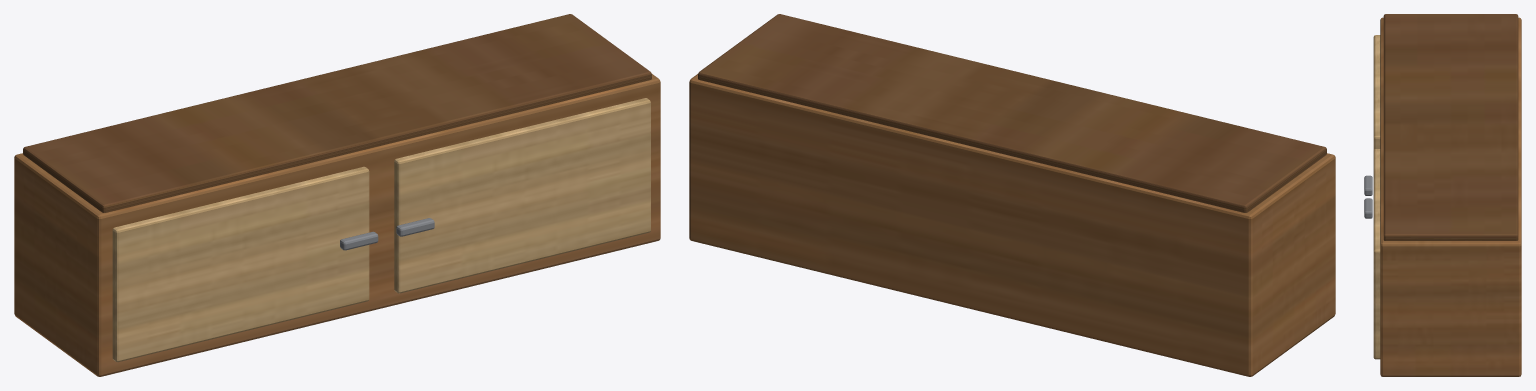
File: tv_cabinet.glb
3 views of the same model, side by side, from view 1: azimuth 30°, elevation 25°; view 2: azimuth 150°, elevation 25°; view 3: azimuth 270°, elevation 25° (orthographic). The views are drawn at different scales.
Parts seen in each view (by area): view 1: toptrim, body, part_doorL__tv_cabinet, part_doorR__tv_cabinet; view 2: body, toptrim; view 3: toptrim, body, part_doorR__tv_cabinet, part_doorL__tv_cabinet.
Boxes of the visible parts, left/top/right/bottom form: toptrim: left=23, top=14, right=651, bottom=212; body: left=14, top=74, right=660, bottom=376; part_doorL__tv_cabinet: left=112, top=166, right=378, bottom=362; part_doorR__tv_cabinet: left=394, top=98, right=650, bottom=293; body: left=689, top=74, right=1335, bottom=376; toptrim: left=698, top=14, right=1326, bottom=212; toptrim: left=1383, top=14, right=1518, bottom=240; body: left=1380, top=17, right=1521, bottom=376; part_doorR__tv_cabinet: left=1364, top=149, right=1380, bottom=359; part_doorL__tv_cabinet: left=1364, top=35, right=1380, bottom=195.
Size of the model in its own units: 1.6 by 0.46 by 0.4675.
4 materials, 3 textured.
